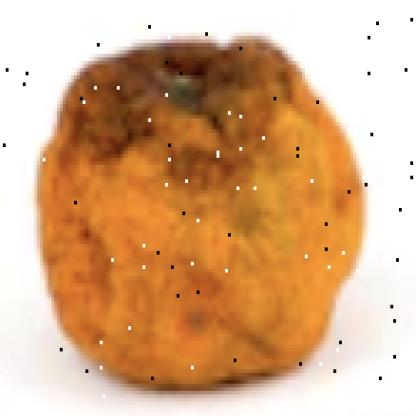rotten: (39, 31, 366, 391)
